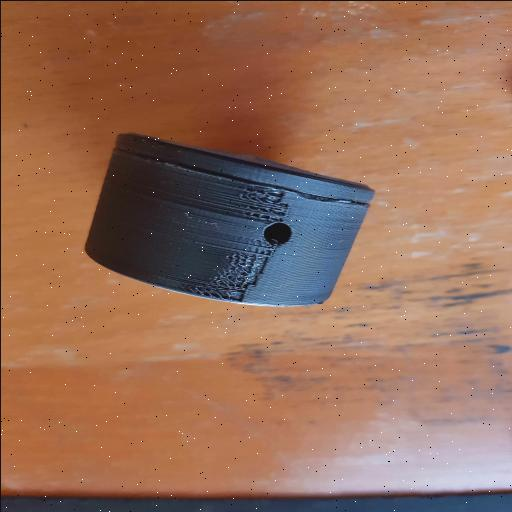cracks: (120, 136, 388, 216)
